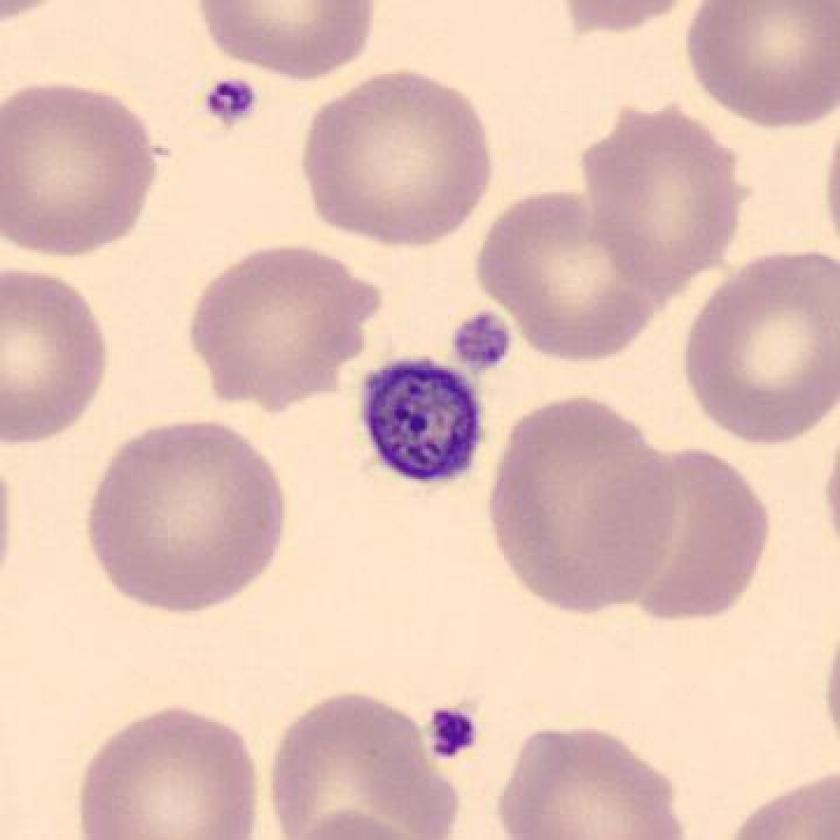platelets: (354, 353, 494, 494), (414, 693, 493, 774), (440, 307, 526, 378), (197, 68, 260, 138)
